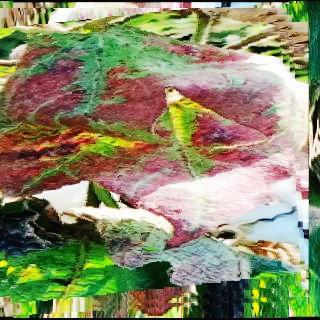blight: (0, 7, 302, 311)
